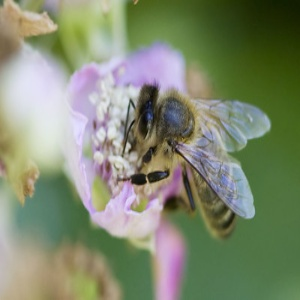bee: (126, 82, 277, 241)
